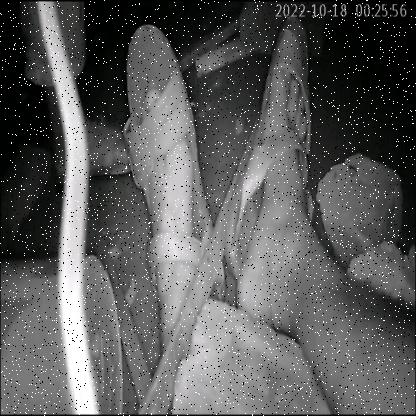leg: (233, 57, 416, 416), (116, 19, 223, 296)
